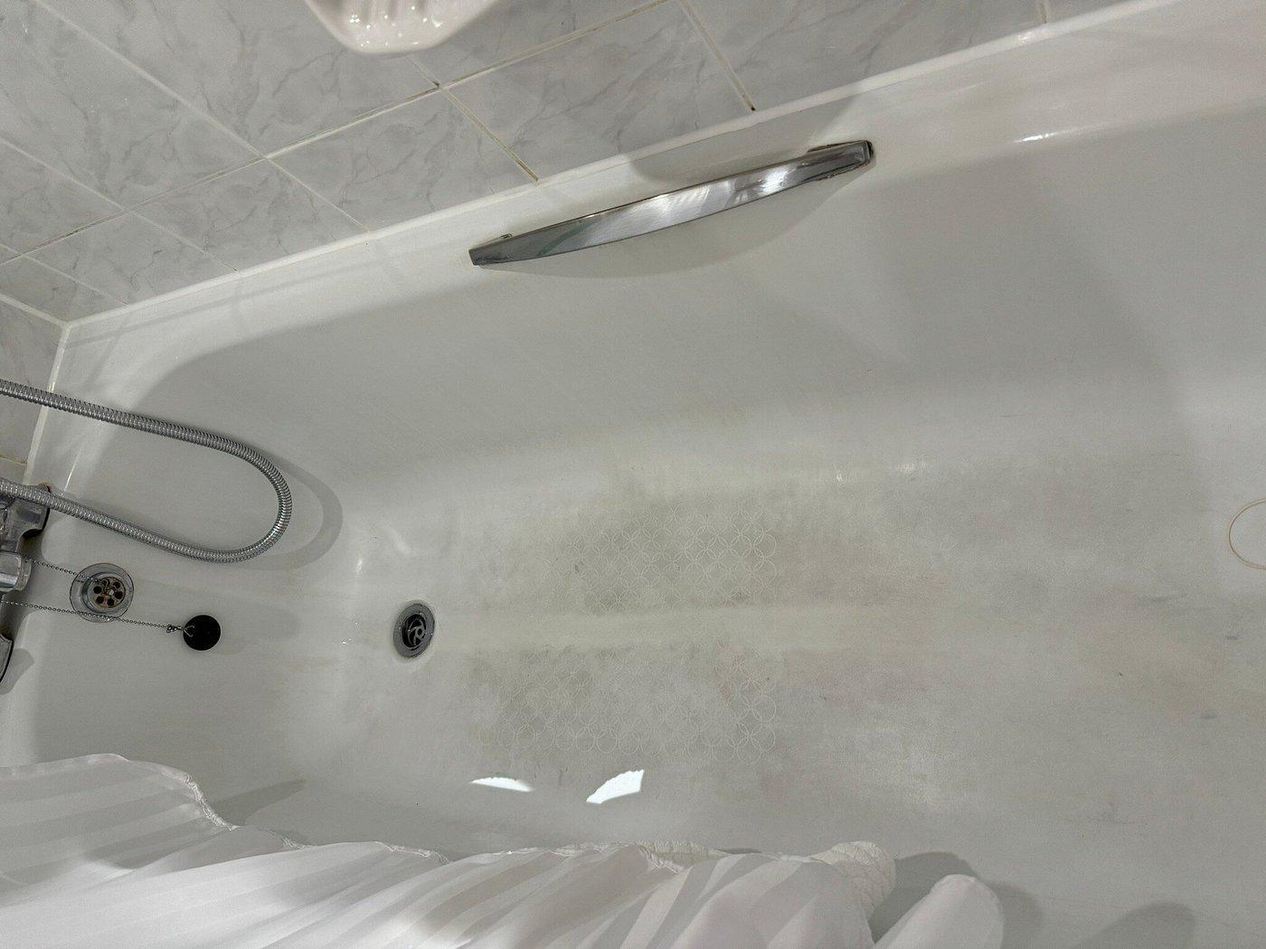messy_sink: (0, 312, 1266, 848)
